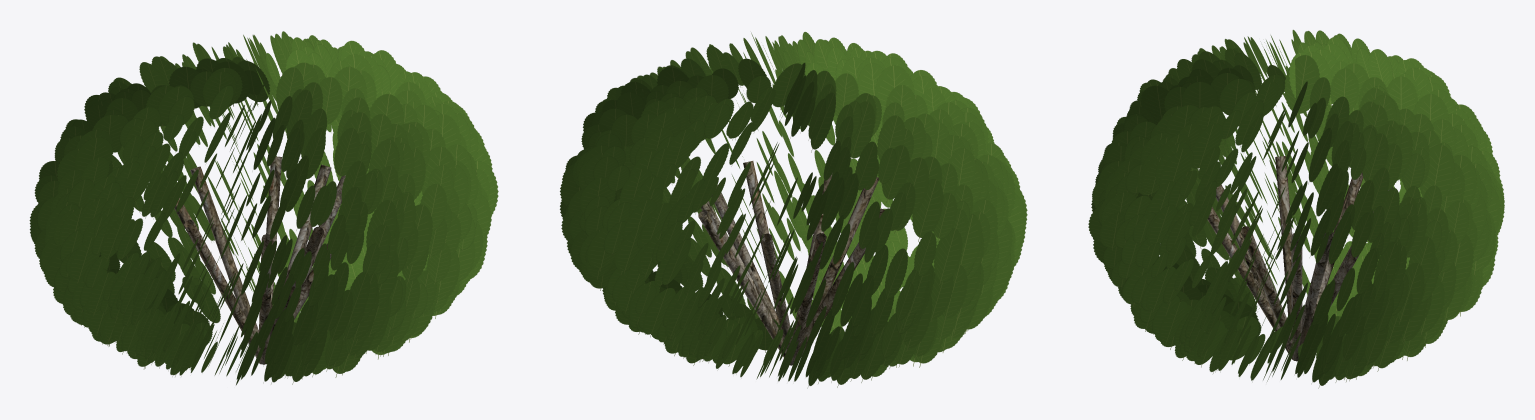
File: low-shrub.glb
3 renders of one model, left to right at view 1: azimuth 30°, elevation 25°; view 2: azimuth 150°, elevation 25°; view 3: azimuth 270°, elevation 25°, orthographic.
Visible parts, largest first — view 1: low-shrub; view 2: low-shrub; view 3: low-shrub.
Boxes of the visible parts, x1,y1,x2,y2 form: low-shrub: [29, 31, 498, 384]; low-shrub: [560, 32, 1027, 388]; low-shrub: [1088, 30, 1504, 388].
Bounding box in the file's own units: 1.83 × 1.23 × 1.64.
2 materials, 2 textured.
